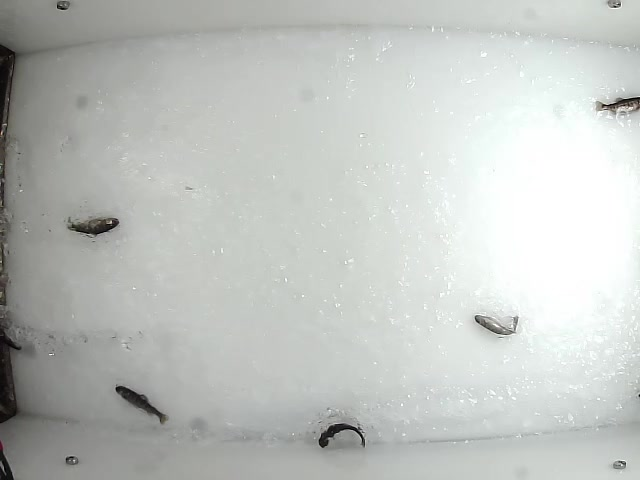fish: (113, 382, 171, 424), (64, 213, 122, 238), (317, 422, 367, 450), (472, 310, 520, 338)
